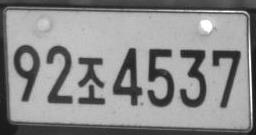2: (44, 44, 73, 104)
3: (179, 48, 206, 108)
4: (112, 47, 142, 106)
5: (147, 48, 175, 108)
7: (212, 49, 241, 108)
9: (13, 43, 40, 103)
조: (77, 56, 106, 105)
